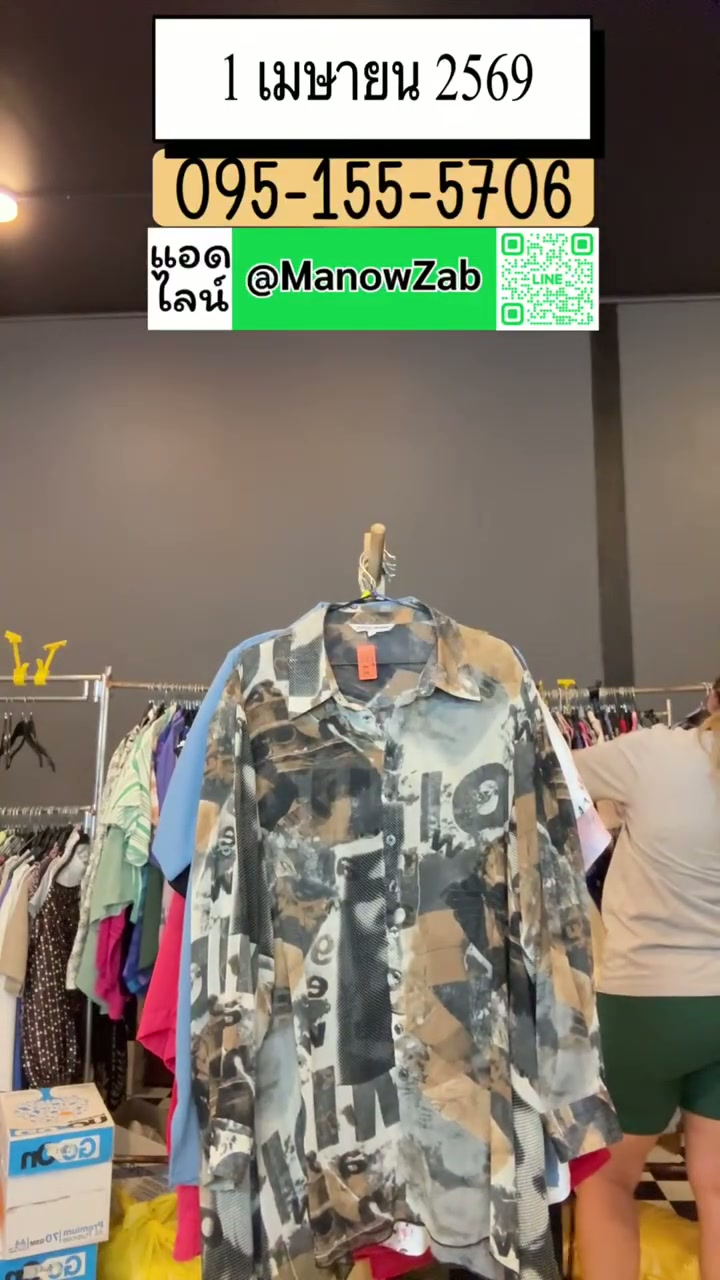display_shirt: (191, 599, 618, 1279)
